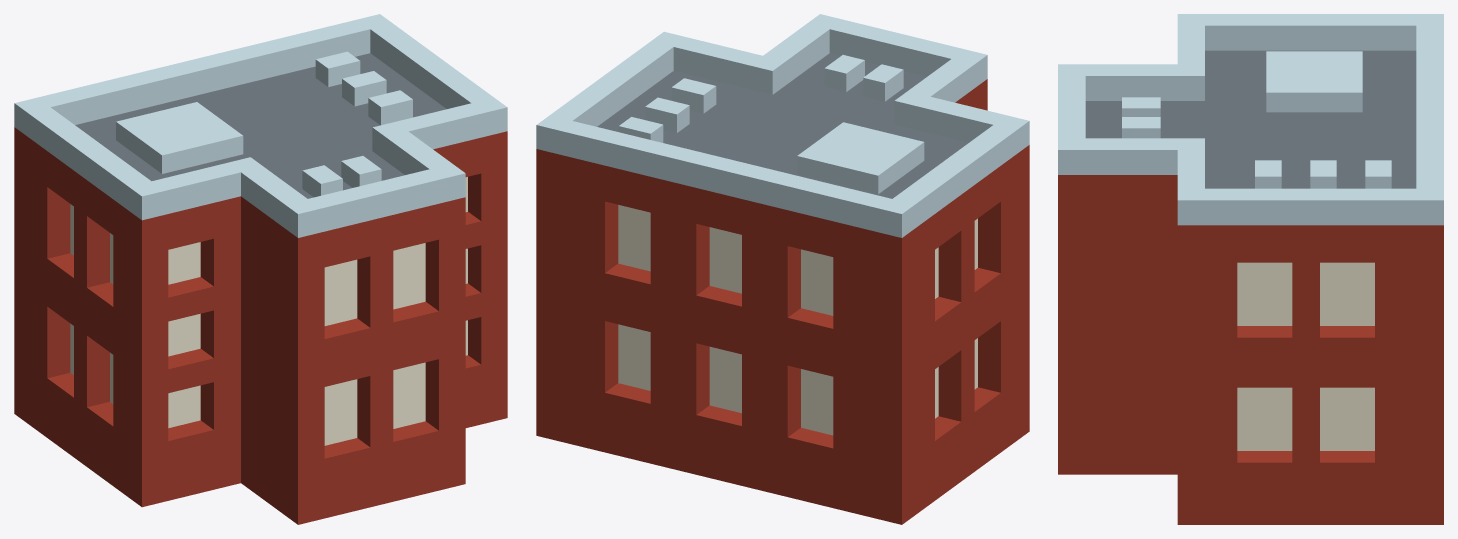
Rendered from Building_12_Extra (Red).obj.
3 renders of one model, left to right at view 1: azimuth 30°, elevation 25°; view 2: azimuth 150°, elevation 25°; view 3: azimuth 270°, elevation 25°, orthographic. The views are drawn at different scales.
Parts seen in each view (by area): view 1: Building_12_Extra_(Red); view 2: Building_12_Extra_(Red); view 3: Building_12_Extra_(Red).
Boxes of the visible parts, x1,y1,x2,y2 form: Building_12_Extra_(Red): (14, 14, 507, 524); Building_12_Extra_(Red): (536, 14, 1029, 524); Building_12_Extra_(Red): (1058, 14, 1443, 524).
Bounding box in the file's own units: 1.6 × 1.3 × 1.4.
